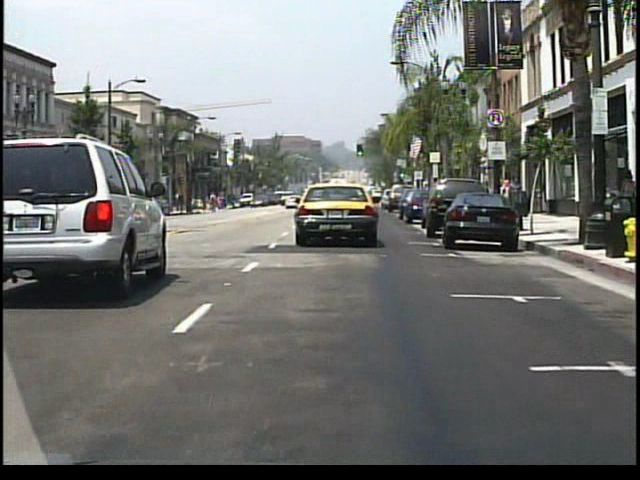person: (608, 171, 637, 232), (507, 175, 522, 220), (498, 179, 510, 215), (227, 195, 234, 211)
